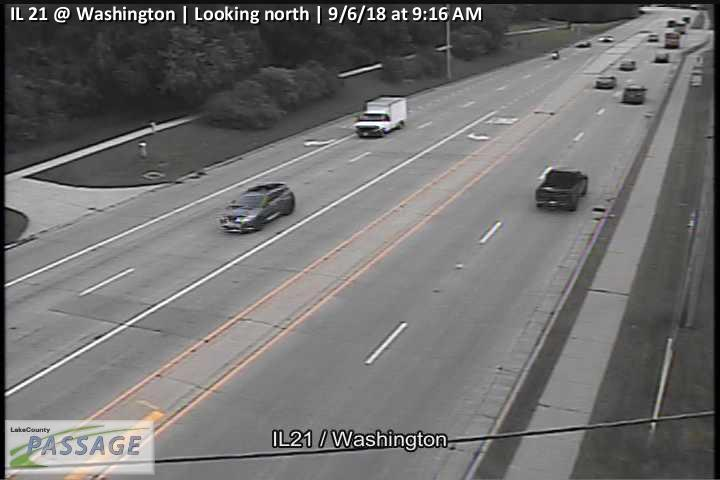SUV: (219, 182, 295, 232), (622, 83, 647, 104)
Sedan: (595, 74, 616, 88), (620, 58, 636, 70)
Truck: (534, 166, 588, 211), (352, 95, 408, 137)
